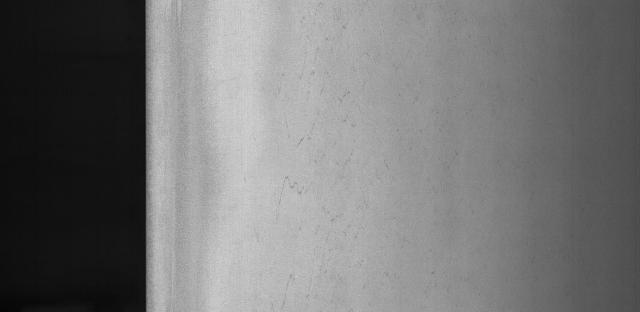silk_spot: (271, 20, 397, 295)
